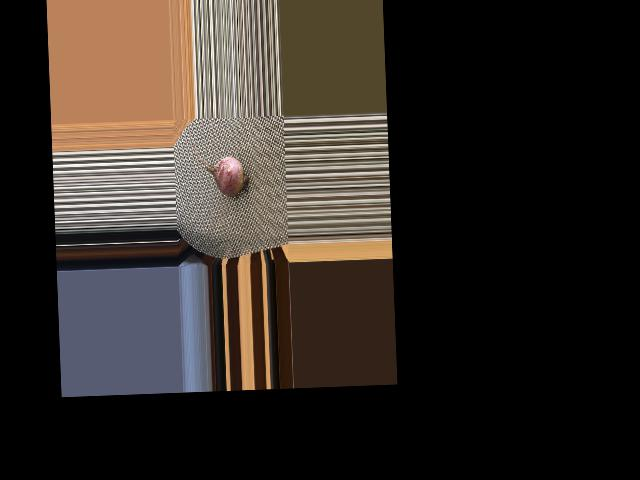beet: (192, 138, 250, 198)
